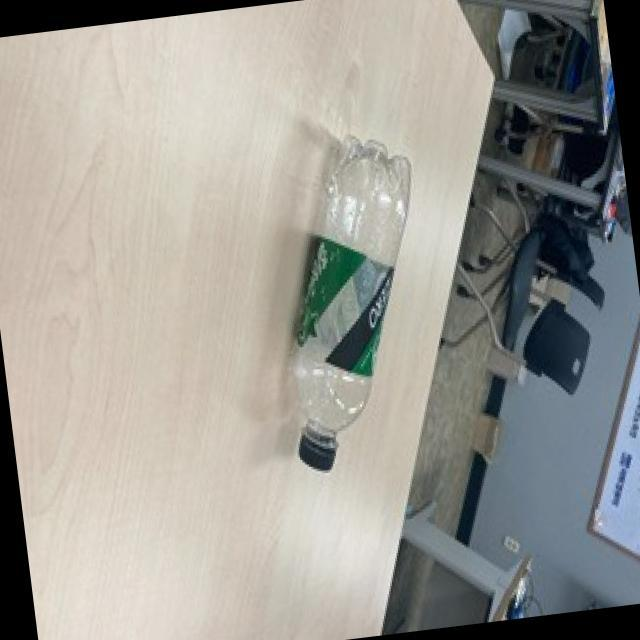good: (241, 121, 457, 482)
